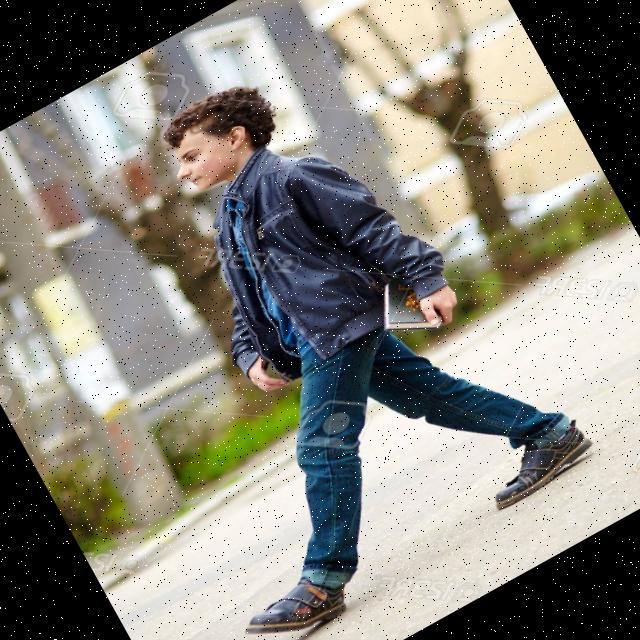Person: (9, 14, 605, 640)
